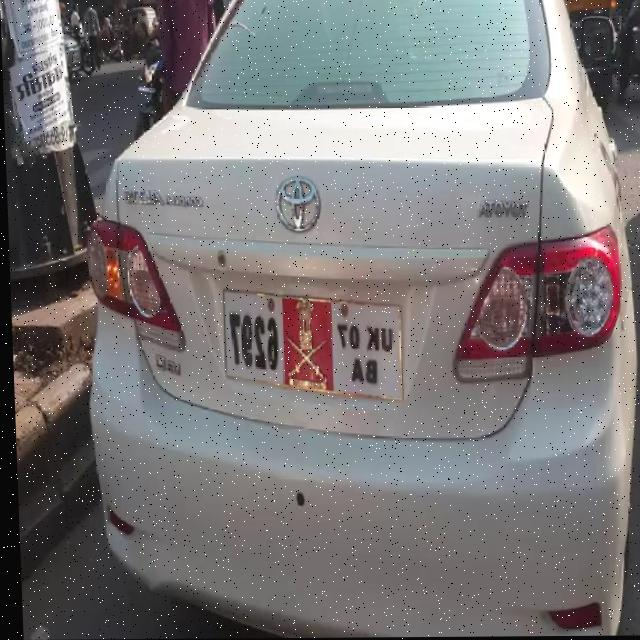plate: (217, 286, 405, 402)
